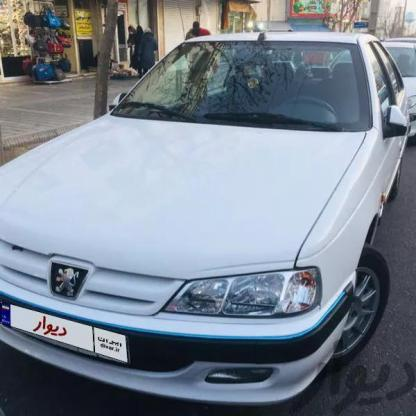Car: (0, 27, 416, 408), (353, 31, 416, 128)
